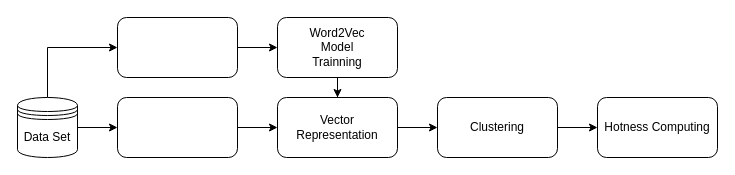
Some shapes in this 735 by 175 pixel diagram are drawn without their labels. Here are the shapes that lost their labels. From the top down, the centre of each, then its label:
the point at 177,47: Train Data Preprocessing
the point at 177,127: Feature Extraction
